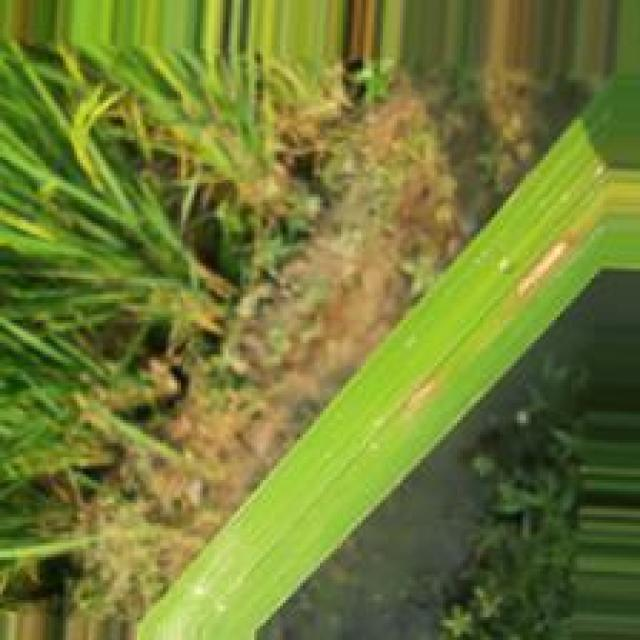Rice Tungro: (506, 225, 582, 304), (393, 366, 446, 416)
